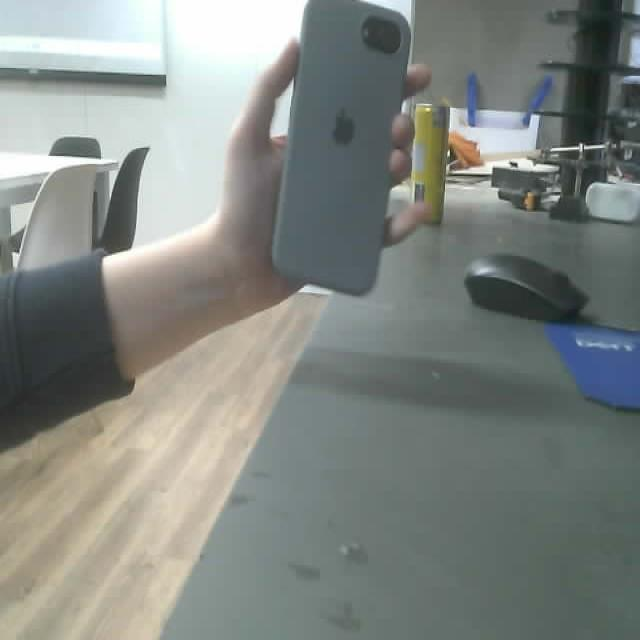phone: (273, 1, 413, 299)
